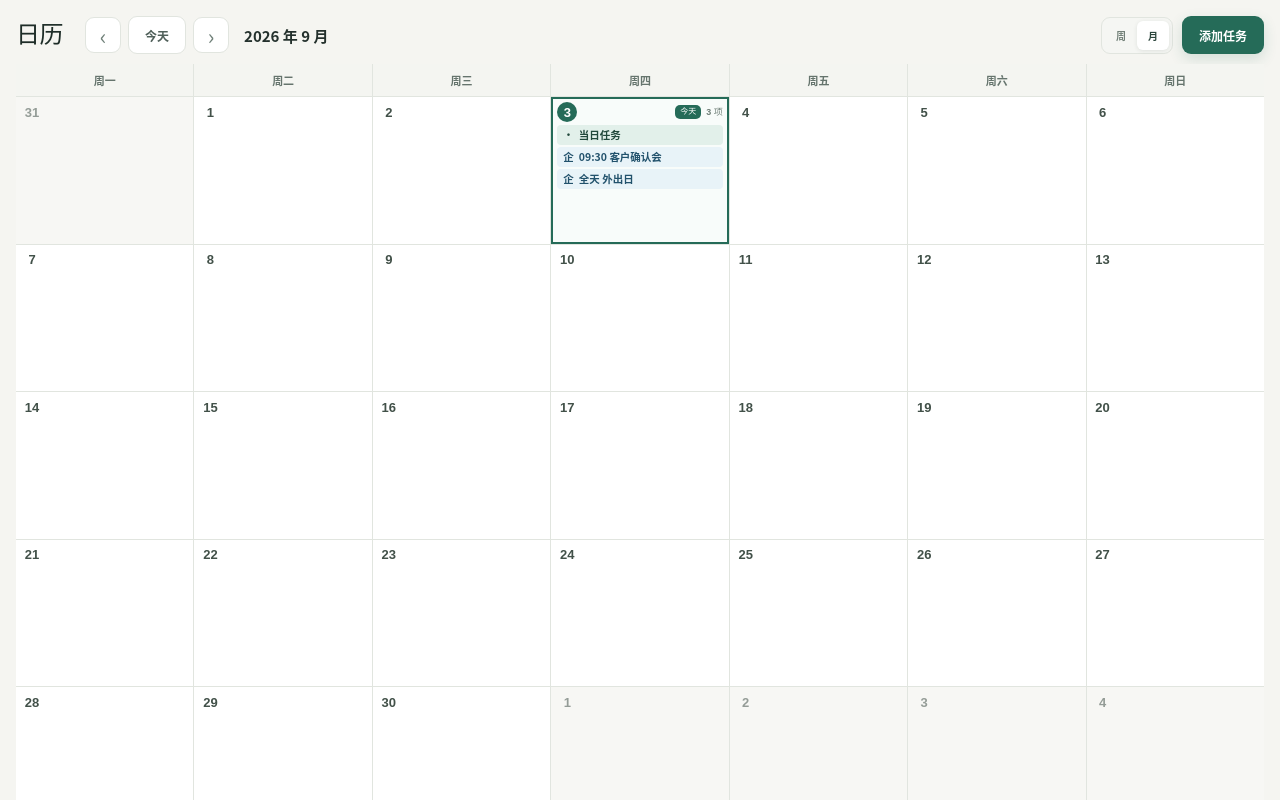
Scenario: CalendarPage › 合并展示只读企业微信日程，保留时间、全天和地点且不生成任务
This screenshot has width=1280, height=800.
Check: the button named "查看任务“当日任务”" is shown, box [557, 125, 723, 145]
What coordinates should you click on to do the following:
click the button named "查看企业微信日程“客户确认会”"
I would click on:
 (640, 157)
Its box is [557, 147, 723, 167].
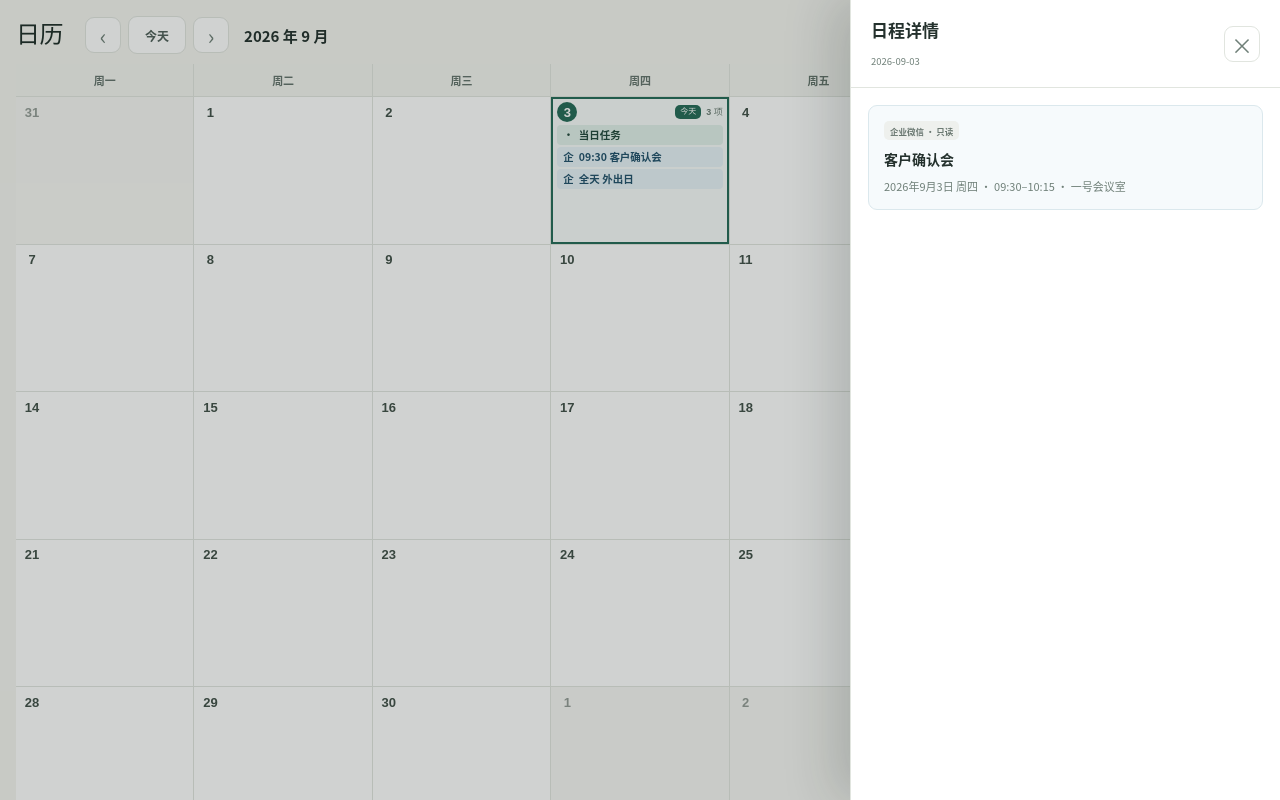
Check: the dialog "日程详情" is shown, box [850, 0, 1279, 799]
Check: the text "企业微信 · 只读" is shown, box [884, 121, 959, 140]
Check: the heading "客户确认会" is shown, box [884, 149, 954, 169]
What coordinates should you click on to do the following:
click the button named "关闭"
I would click on:
 (1242, 44)
Its box is [1224, 26, 1260, 62].
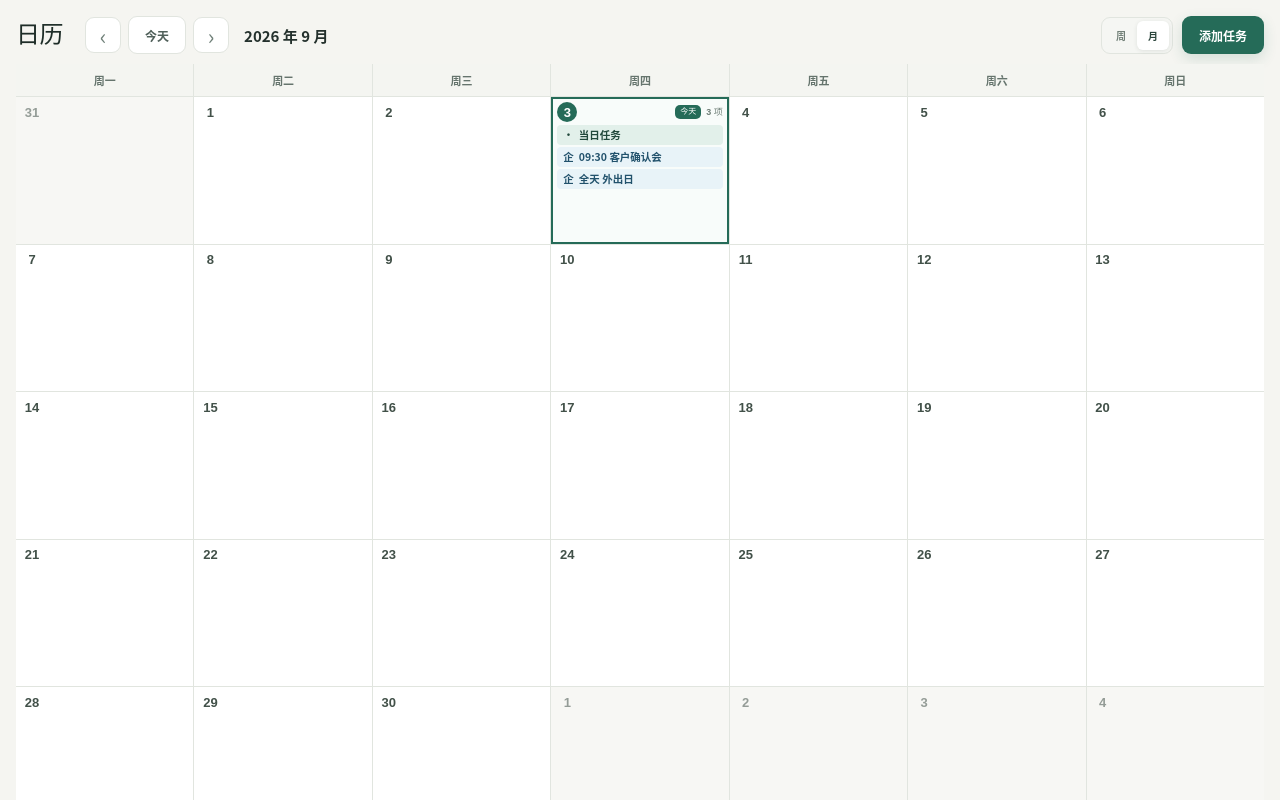
What coordinates should you click on to do the following:
click the button named "查看 2026年9月3日 周四 的全部任务"
I would click on:
 (640, 112)
Its box is [557, 102, 723, 122].
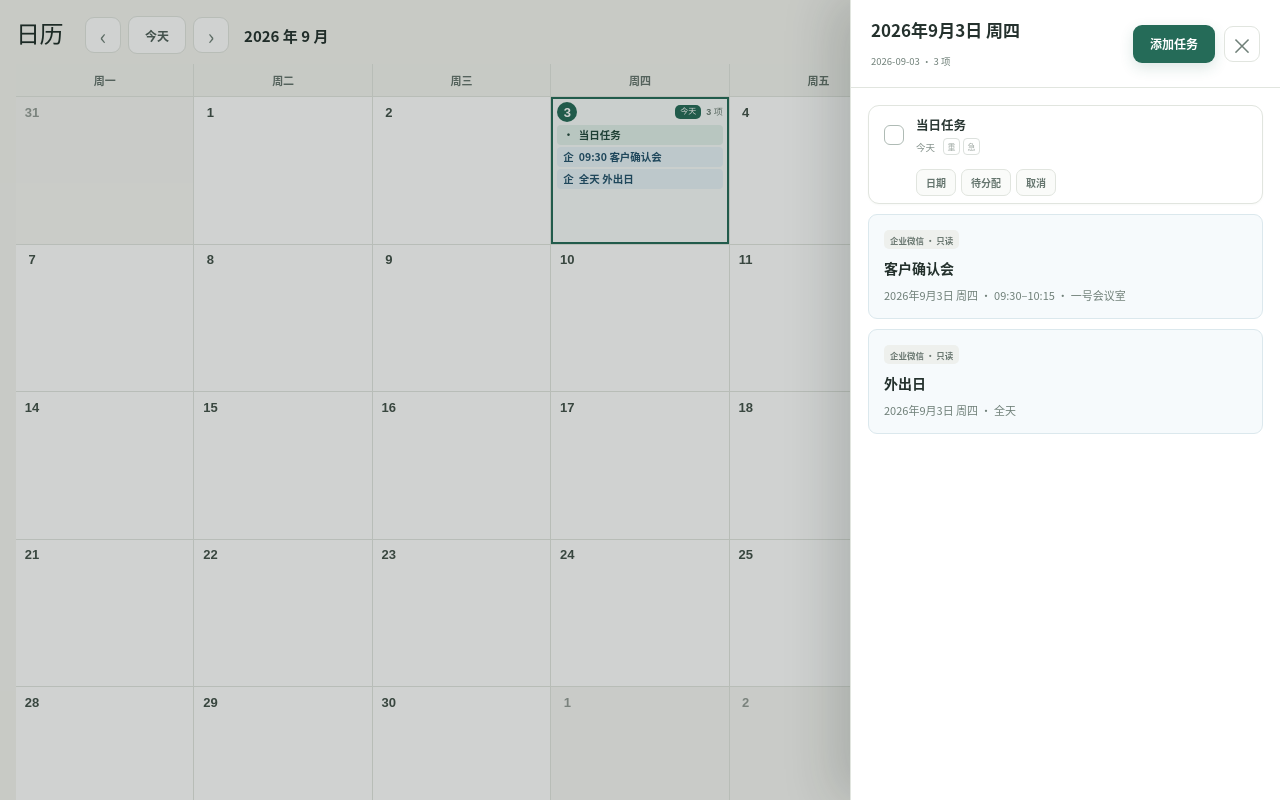
Check: the heading "外出日" is shown, box [884, 373, 926, 393]
Check: the text "2026年9月3日 周四 · 全天" is shown, box [884, 402, 1016, 418]
